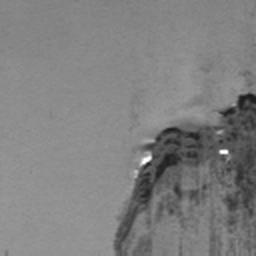Slag inclusion: (114, 91, 256, 256)
